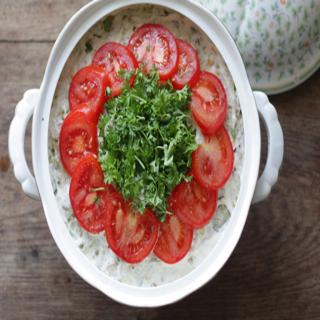tomato: (102, 190, 161, 265), (67, 156, 113, 236), (126, 22, 179, 80), (186, 71, 232, 136), (171, 168, 218, 230), (192, 122, 234, 190), (60, 102, 98, 176), (150, 204, 193, 266), (94, 37, 136, 100), (69, 63, 108, 122), (173, 39, 203, 88)
